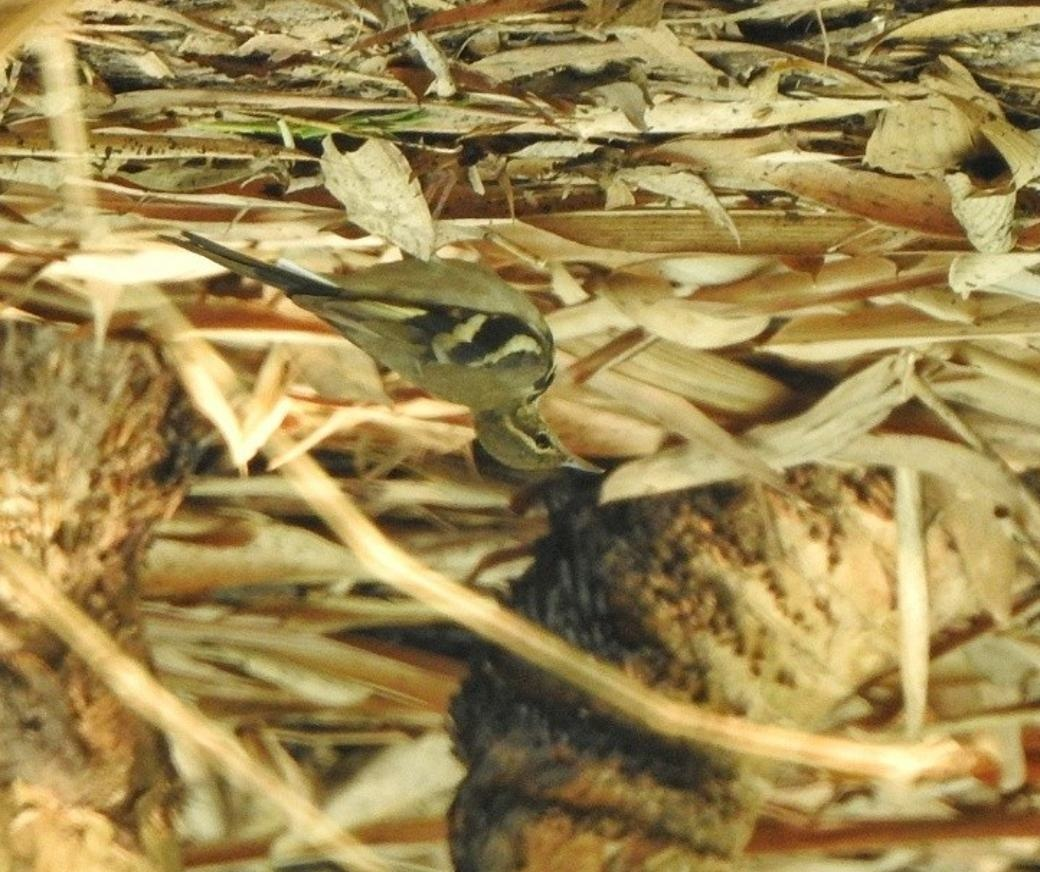wagtail: (155, 170, 625, 494)
